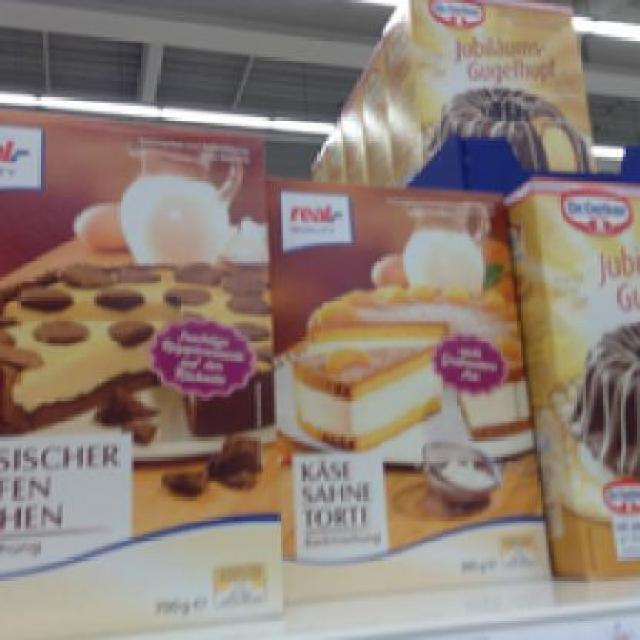Cake: (0, 106, 277, 608), (260, 170, 549, 586), (386, 0, 594, 180)
